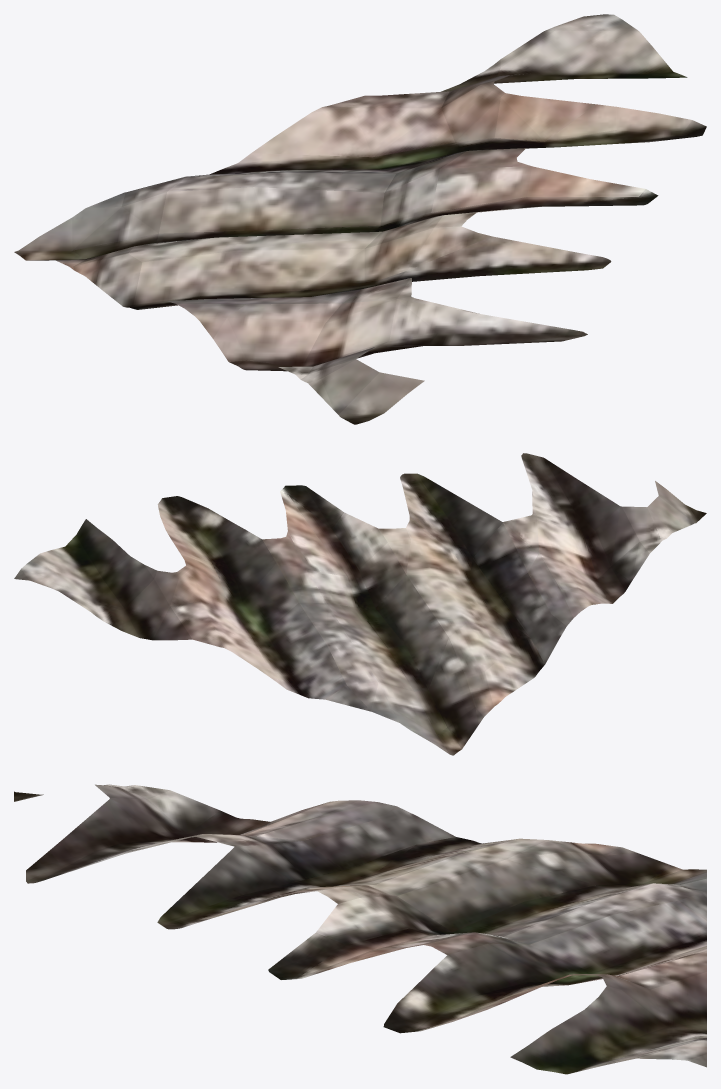
3 renders of one model, top to bottom at view 1: azimuth 30°, elevation 25°; view 2: azimuth 150°, elevation 25°; view 3: azimuth 270°, elevation 25°, orthographic. The views are drawn at different scales.
Size of the model in its own units: 0.8374 by 0.1405 by 0.8373.
Materials: 2 (2 with a texture image).
